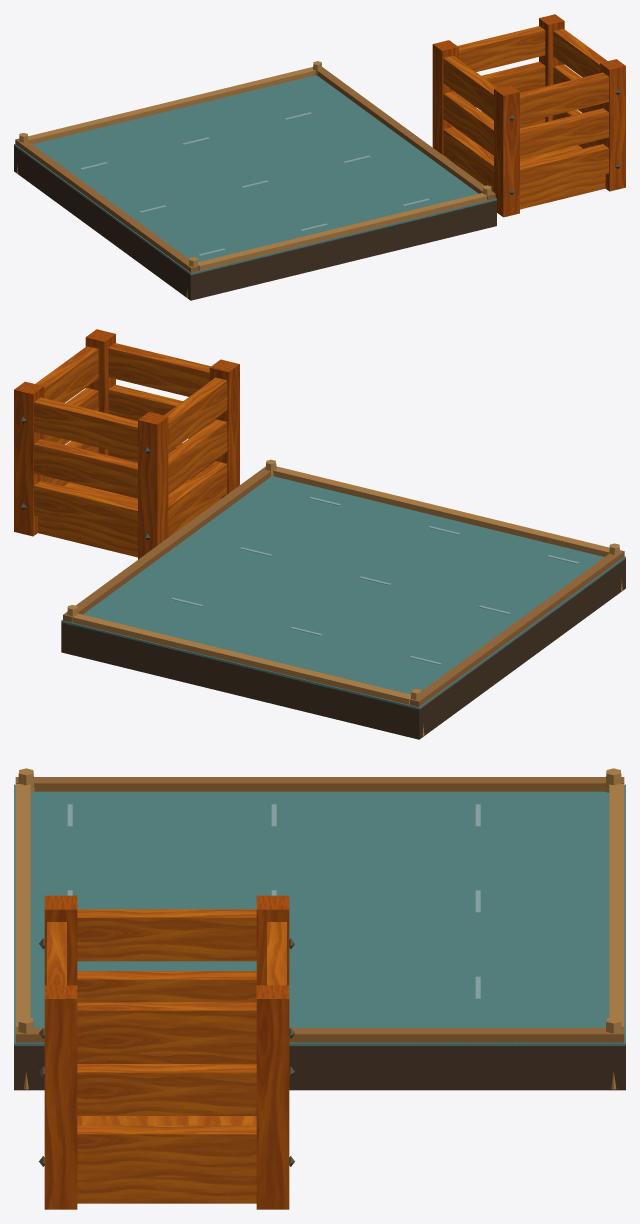
The model's file is farm-with-box-water.gltf.
The picture shows the model from 3 angles, top to bottom: view 1: azimuth 30°, elevation 25°; view 2: azimuth 150°, elevation 25°; view 3: azimuth 270°, elevation 25°; orthographic projection. The views are drawn at different scales.
Visible parts, largest first — view 1: farm-with-box-water; view 2: farm-with-box-water; view 3: farm-with-box-water.
Boxes of the visible parts, bbox=[...] form: farm-with-box-water: bbox=[14, 14, 625, 300]; farm-with-box-water: bbox=[14, 329, 625, 739]; farm-with-box-water: bbox=[14, 768, 625, 1209].
Bounding box in the file's own units: 2.91 × 0.759 × 2.
Materials: 2 (1 with a texture image).
